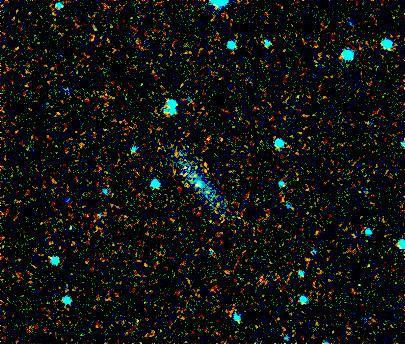star: (192, 150, 222, 180)
